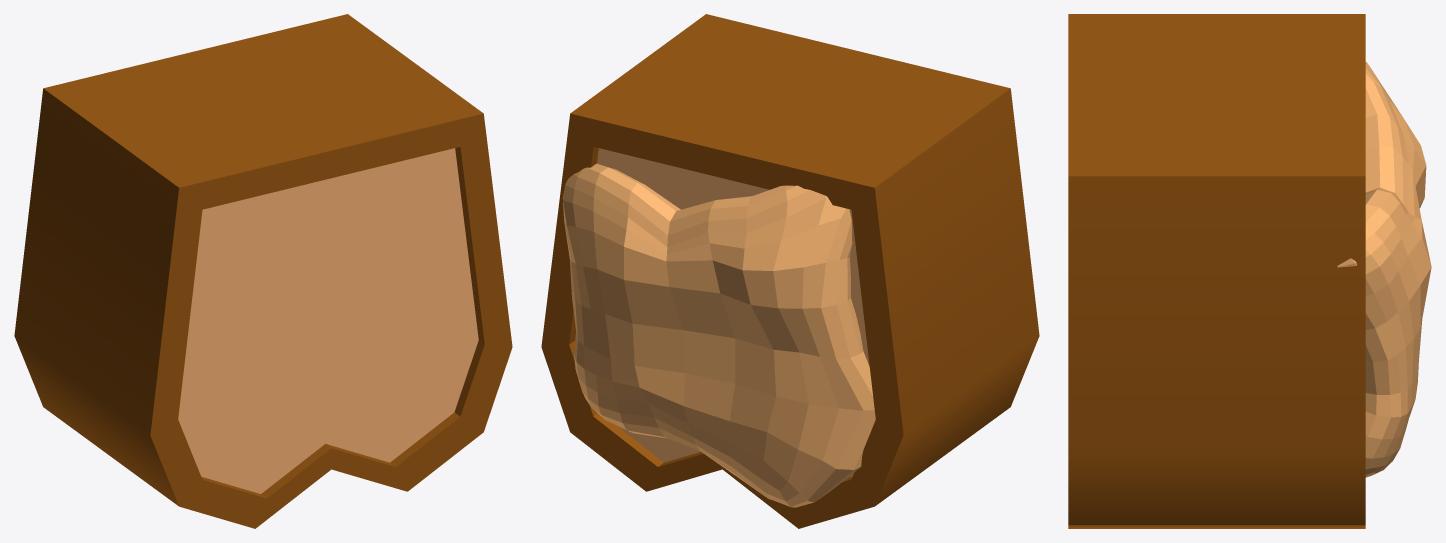
The model's file is Peanutted Toast.glb.
The picture shows the model from 3 angles, left to right: view 1: azimuth 30°, elevation 25°; view 2: azimuth 150°, elevation 25°; view 3: azimuth 270°, elevation 25°; orthographic projection. The views are drawn at different scales.
Visible parts, largest first — view 1: ButteredBread_geo.002; view 2: ButteredBread_geo.002, Butter_geo.002; view 3: ButteredBread_geo.002, Butter_geo.002.
Part boxes in pixels (x1=…): ButteredBread_geo.002: x1=14, y1=14, x2=512, y2=528; ButteredBread_geo.002: x1=541, y1=14, x2=1039, y2=528; Butter_geo.002: x1=562, y1=163, x2=875, y2=507; ButteredBread_geo.002: x1=1068, y1=14, x2=1365, y2=528; Butter_geo.002: x1=1337, y1=62, x2=1431, y2=477.
Size of the model in its own units: 5.21 by 4.94 by 4.14.
